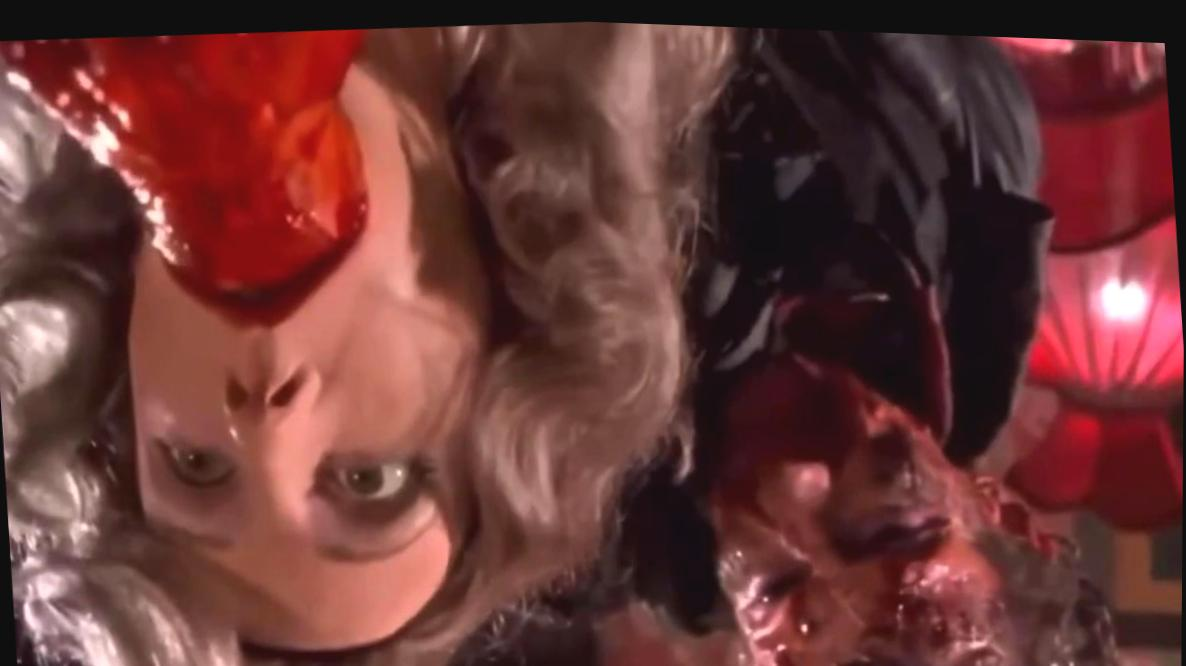Fire: (0, 26, 367, 324)
